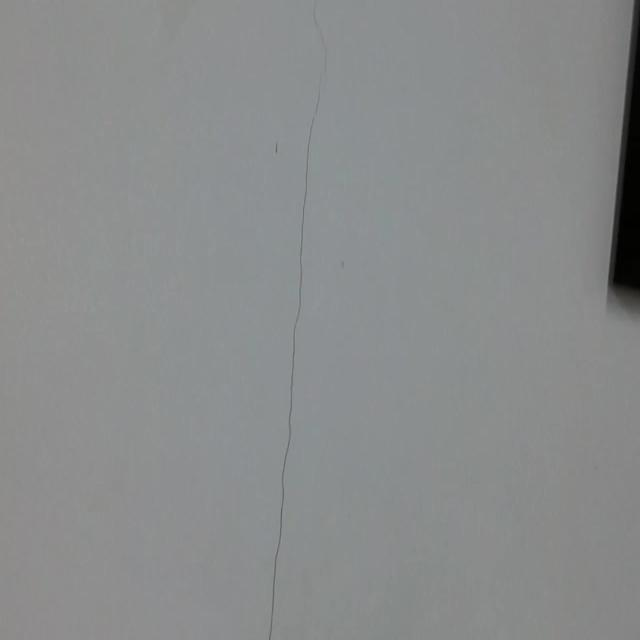Crack: (262, 86, 336, 640), (297, 0, 347, 75)
